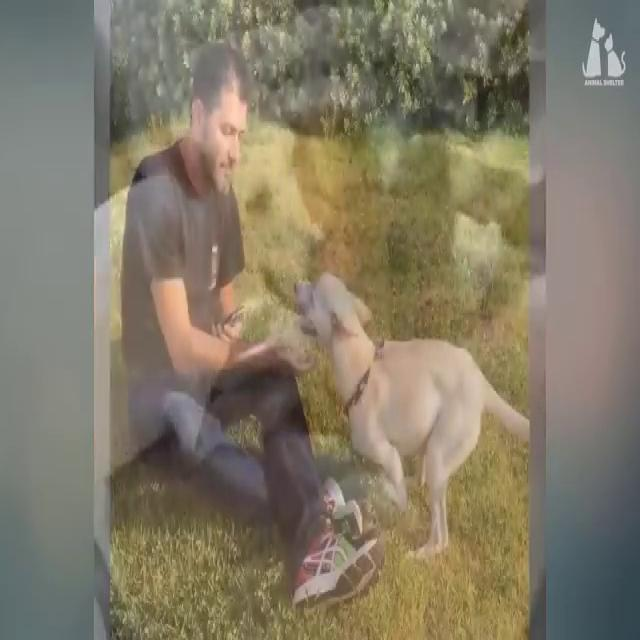injured-animals: (291, 263, 530, 564)
